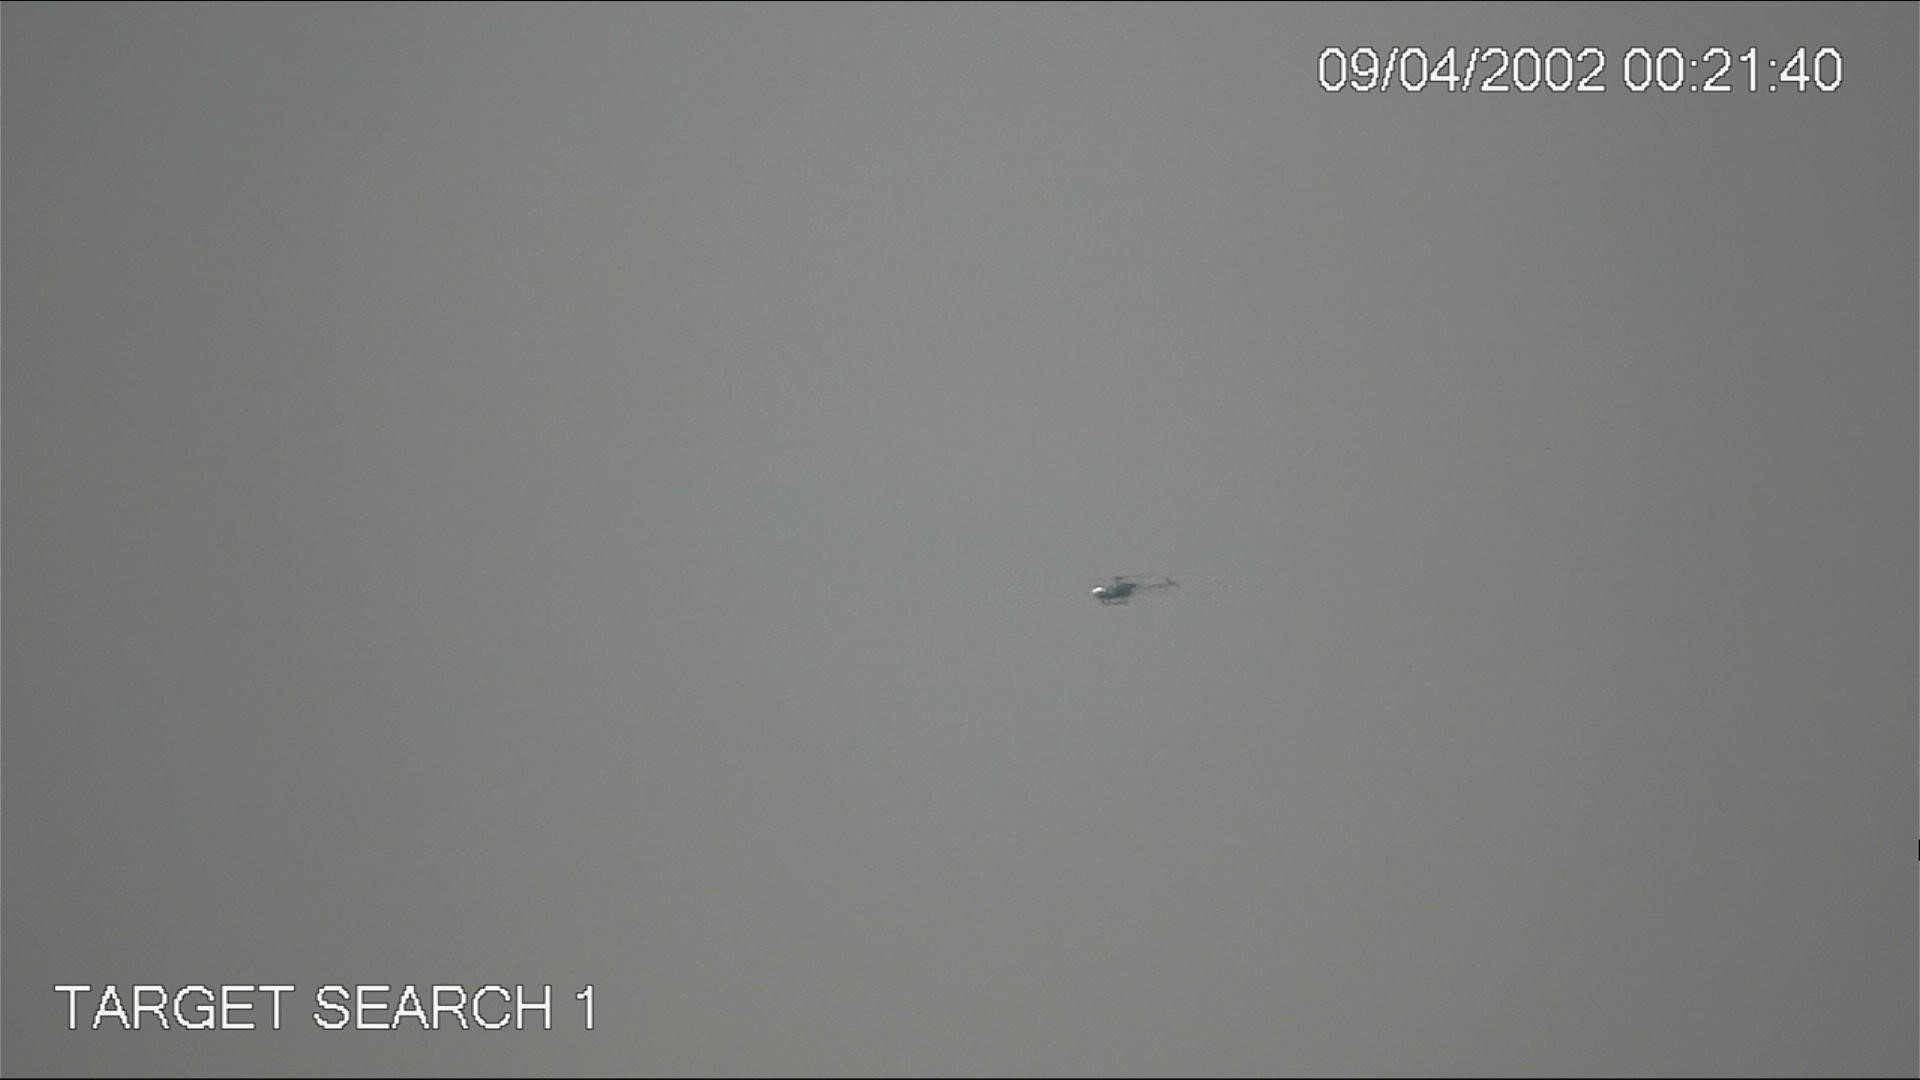SU_30: (1085, 575, 1139, 607)
